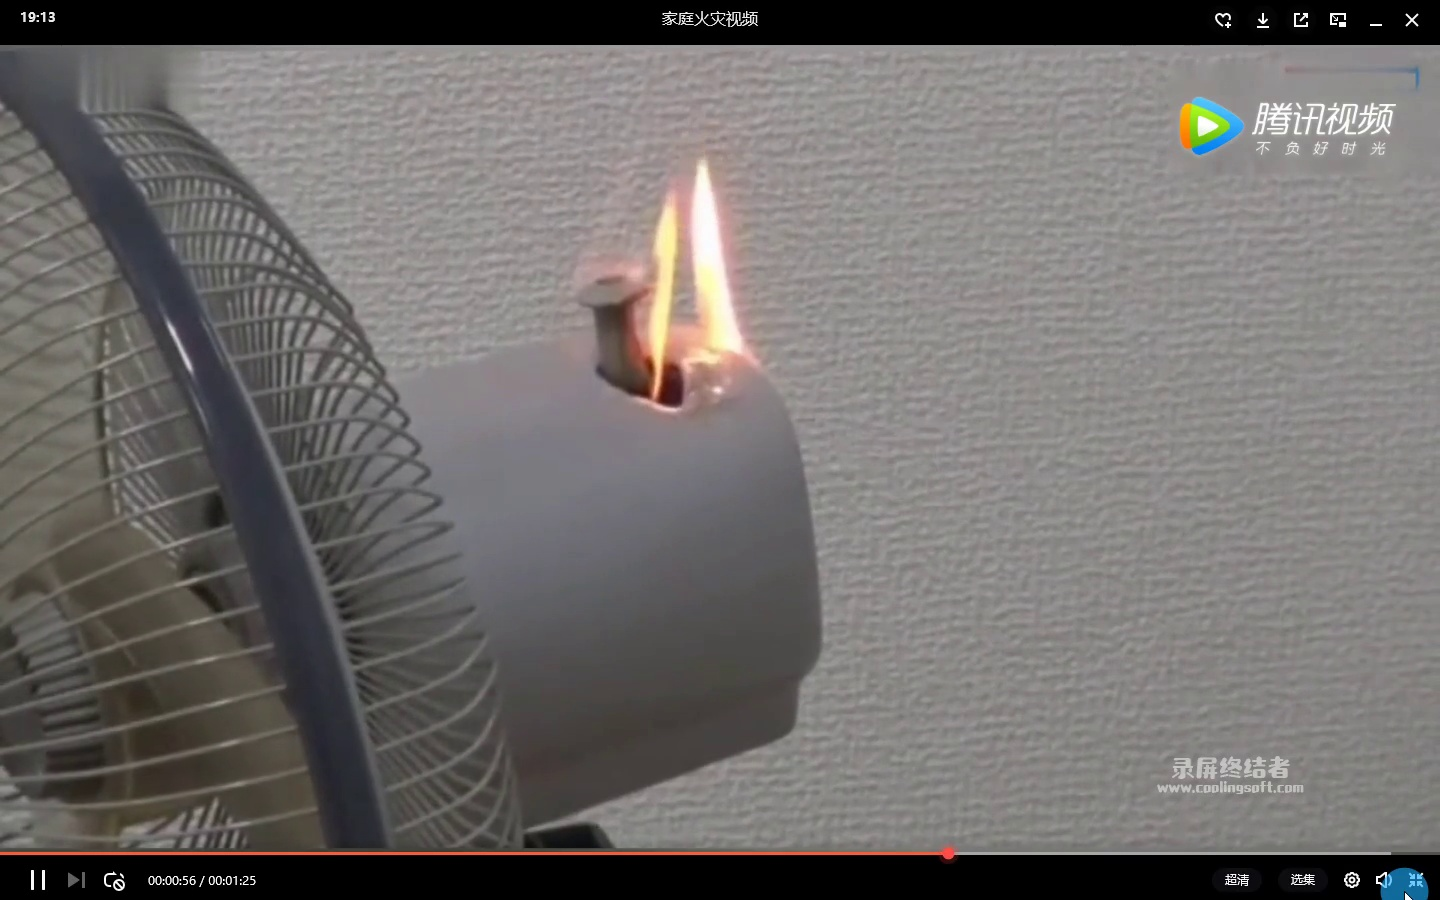fire: (631, 164, 762, 399)
